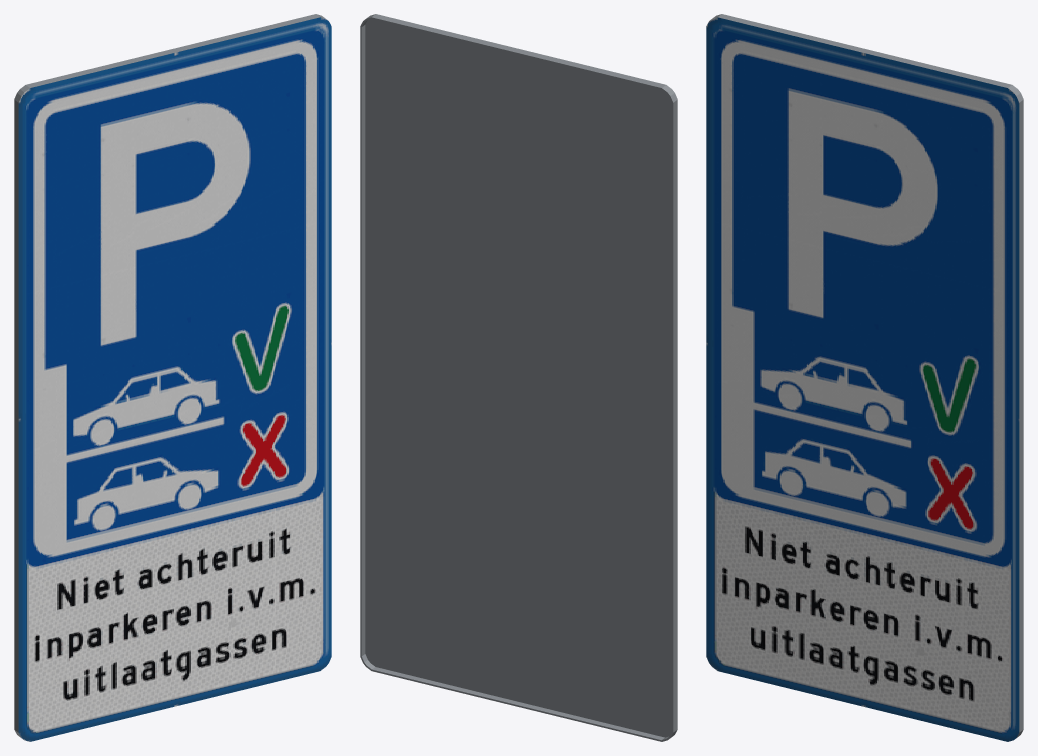
3 renders of one model, left to right at view 1: azimuth 30°, elevation 25°; view 2: azimuth 150°, elevation 25°; view 3: azimuth 330°, elevation 25°, orthographic.
Visible parts, largest first — view 1: cat_39c742ee72cded51; view 2: cat_39c742ee72cded51; view 3: cat_39c742ee72cded51.
Boxes of the visible parts, x1=… form: cat_39c742ee72cded51: x1=14, y1=14, x2=331, y2=741; cat_39c742ee72cded51: x1=360, y1=14, x2=677, y2=741; cat_39c742ee72cded51: x1=706, y1=14, x2=1023, y2=741.
Bounding box in the file's own units: 0.6 × 0.015 × 1.2.
2 materials, 1 textured.
